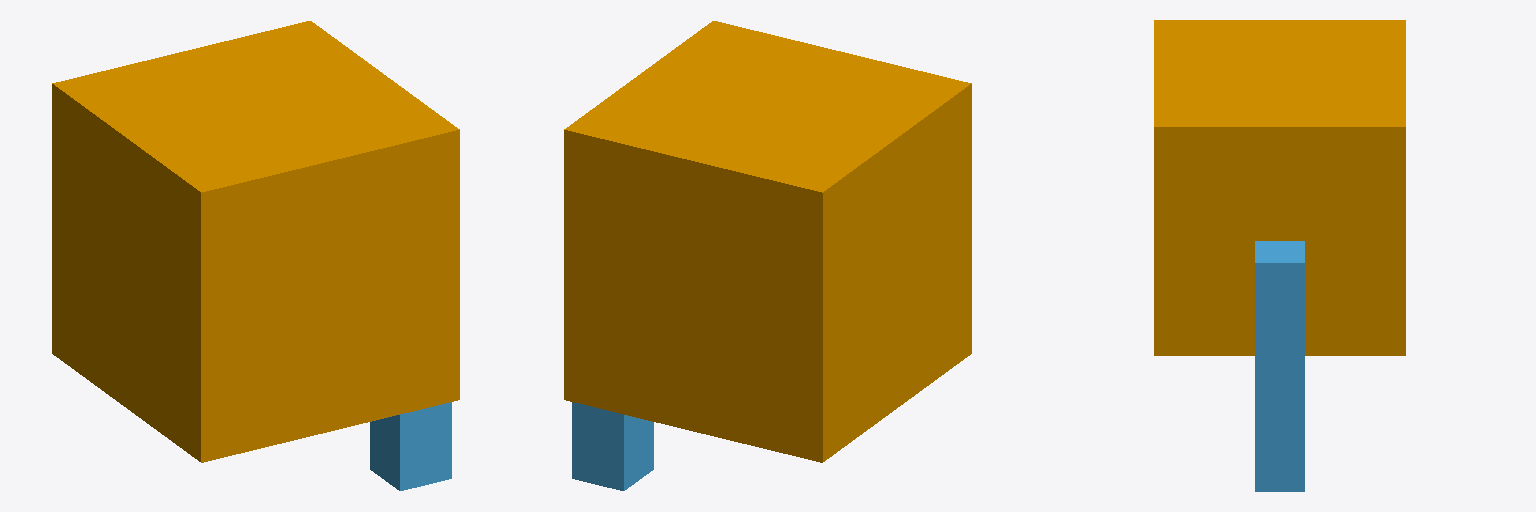
The robot description file, URDF, robot "benchmark_torque_revolute":
<robot name="benchmark_torque_revolute">
    <!--
        URDF_FILE: "simple_continuous.xml"
        KEYBOARD_ACTIONS:
          One:
            ADD_ACTION: { "joint_0": 9.8 }
          Two:
            ADD_ACTION: { "joint_0": -10 }
          Three:
            ADD_ACTION: { "joint_0": 0.1 }
          Four:
            ADD_ACTION: { "joint_0": -0.1 }
    -->
    <material name="M_Red">
        <texture filename="/UrdfBot/Common/M_Red.M_Red"/>
    </material>
    <material name="M_Green">
        <texture filename="/UrdfBot/Common/M_Green.M_Green"/>
    </material>
    <material name="M_Blue">
        <texture filename="/UrdfBot/Common/M_Blue.M_Blue"/>
    </material>

    <link name="base_link">
        <inertial>
            <origin rpy="0 0 0" xyz="0 0.0 0"/>
            <mass value="100"/>
            <inertia ixx="1.0" ixy="0" ixz="0" iyy="1.0" iyz="0" izz="1.0"/>
        </inertial>
        <visual>
            <origin rpy="0 0 0" xyz="0 0 0"/>
            <geometry>
                <box size="1 1 1"/>
            </geometry>
        </visual>
    </link>

    <link name="link_0">
        <inertial>
            <origin rpy="0 0 0" xyz="0 0 0"/>
            <mass value="1"/>
            <inertia ixx="1.0" ixy="0" ixz="0" iyy="1.0" iyz="0" izz="1.0"/>
        </inertial>
        <visual>
            <origin rpy="0 0 0" xyz="0 0 -0.5"/>
            <geometry>
                <box size="0.2 0.2 1"/>
            </geometry>
        </visual>
    </link>
    <joint name="joint_0" type="continuous">
        <origin rpy="0 0 0" xyz="0.6 0 0"/>
        <parent link="base_link"/>
        <child link="link_0"/>
        <axis xyz="1 0 0"/>
        <limit effort="1000.0" lower="-1.57" upper="1.57" velocity="0.1"/>
<!--        <dynamics type="position" damping="1" spring="100"/>-->
    </joint>

<!--    <link name="link_1">-->
<!--        <inertial>-->
<!--            <origin rpy="0 0 0" xyz="0 0 0"/>-->
<!--            <mass value="1"/>-->
<!--            <inertia ixx="0" ixy="0" ixz="0" iyy="0" iyz="0" izz="0"/>-->
<!--        </inertial>-->
<!--        <visual>-->
<!--            <origin rpy="0 0 0" xyz="0 0 -0.5"/>-->
<!--            <geometry>-->
<!--                <box size="1 1 1"/>-->
<!--            </geometry>-->
<!--            <material name="M_Blue"/>-->
<!--        </visual>-->
<!--    </link>-->
<!--    <joint name="joint_1" type="continuous">-->
<!--        <origin rpy="0 0 0" xyz="0 0 -0.5"/>-->
<!--        <parent link="link_0"/>-->
<!--        <child link="link_1"/>-->
<!--        <axis xyz="1 0 0"/>-->
<!--        <limit effort="1000.0" lower="-1.57" upper="1.57" velocity="0.1"/>-->
<!--        <dynamics type="torque"/>-->
<!--        <dynamics type="position" damping="1" spring="100"/>-->
<!--    </joint>-->
</robot>

--- Render facts (derived) ---
3 views of the same robot in one strip: view 1: azimuth 30°, elevation 25°; view 2: azimuth 150°, elevation 25°; view 3: azimuth 270°, elevation 25° (orthographic).
Model benchmark_torque_revolute with 2 links and 1 joints (1 continuous), rooted at base_link, posed all joints at 0.
Visible links, largest first — view 1: base_link, link_0; view 2: base_link, link_0; view 3: base_link, link_0.
Link boxes in pixels (<box>): base_link: <box>52,21,459,462</box>; link_0: <box>370,402,451,490</box>; base_link: <box>564,21,971,462</box>; link_0: <box>572,402,653,490</box>; base_link: <box>1154,20,1405,355</box>; link_0: <box>1255,241,1304,491</box>.
Size in the robot's own frame: 1.2 by 1 by 1.5 metres.
Geometry: primitives only (box / cylinder / sphere), no mesh files.
